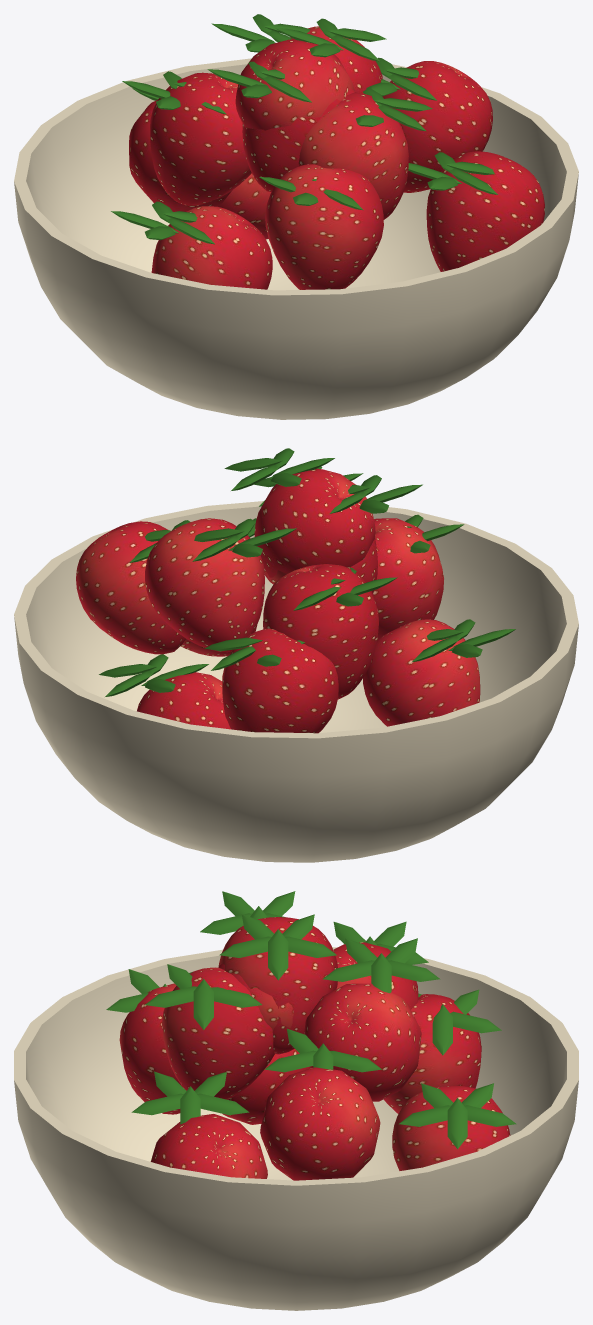
The model's file is fruit_strawberries_bowl.glb.
3 views of the same model, one above another, from view 1: azimuth 30°, elevation 25°; view 2: azimuth 150°, elevation 25°; view 3: azimuth 270°, elevation 25° (orthographic).
Visible parts, largest first — view 1: fruit_strawberries_bowl; view 2: fruit_strawberries_bowl; view 3: fruit_strawberries_bowl.
Boxes of the visible parts, x1,y1,x2,y2 form: fruit_strawberries_bowl: [14, 14, 578, 419]; fruit_strawberries_bowl: [14, 448, 578, 862]; fruit_strawberries_bowl: [14, 891, 578, 1310].
Size of the model in its own units: 0.14 by 0.09 by 0.139.
Materials: 3 (1 with a texture image).
